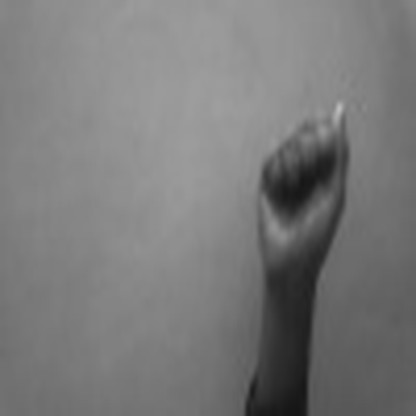a: (251, 91, 360, 274)
